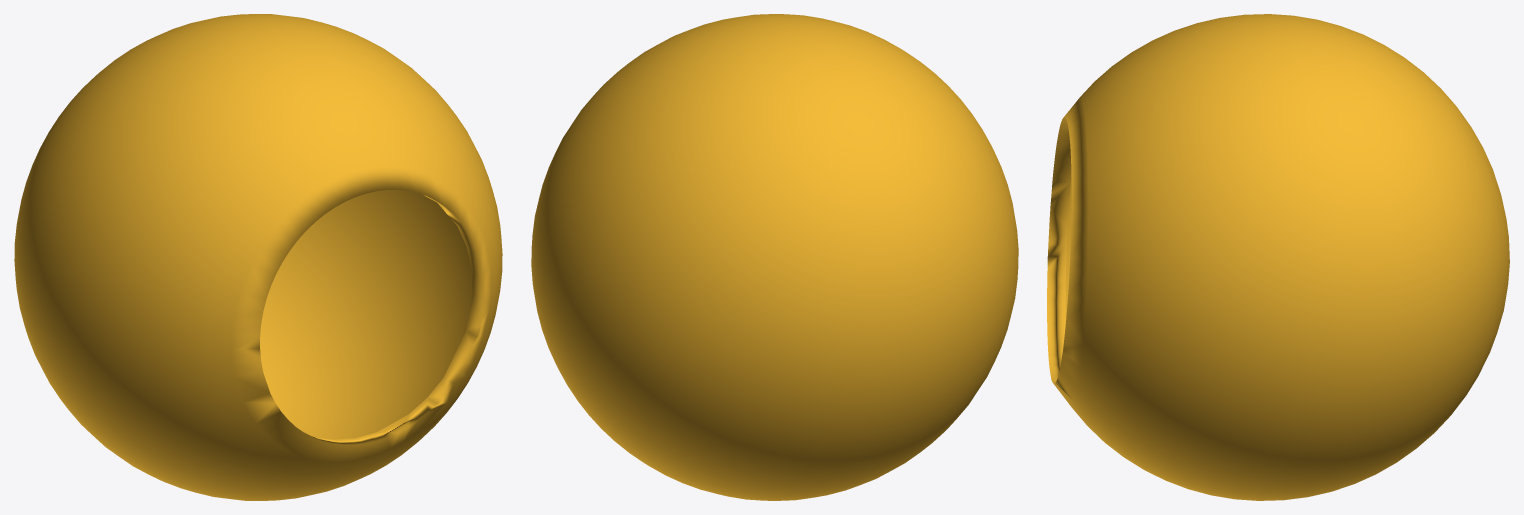
The model's file is nervoso-sclera-l.glb.
The picture shows the model from 3 angles, left to right: view 1: azimuth 30°, elevation 25°; view 2: azimuth 150°, elevation 25°; view 3: azimuth 270°, elevation 25°; orthographic projection.
Visible parts, largest first — view 1: Sclera.l; view 2: Sclera.l; view 3: Sclera.l.
Boxes of the visible parts, x1=… form: Sclera.l: x1=14, y1=14, x2=502, y2=500; Sclera.l: x1=531, y1=14, x2=1018, y2=500; Sclera.l: x1=1047, y1=14, x2=1509, y2=500.
Size of the model in its own units: 0.0262 by 0.0262 by 0.0249.
